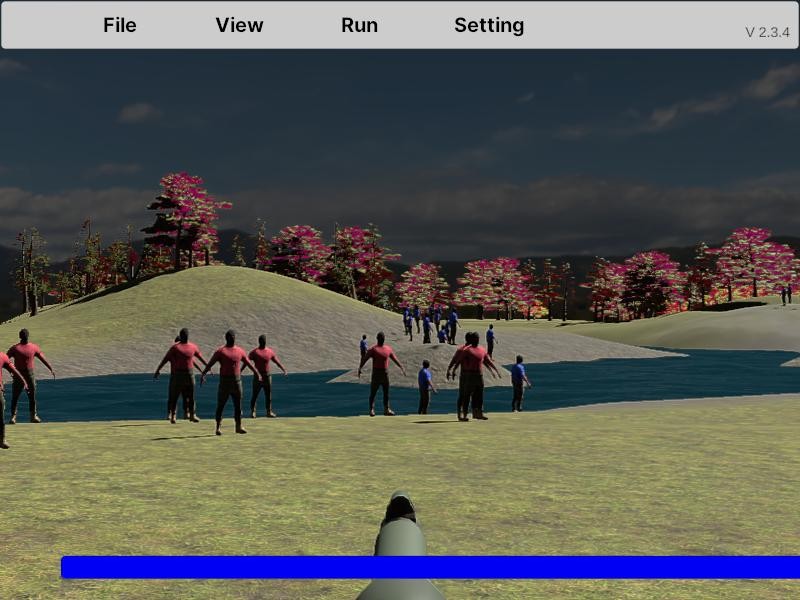Human: (201, 331, 263, 435), (154, 327, 210, 423), (3, 327, 55, 425), (238, 333, 287, 419), (452, 333, 498, 423), (358, 332, 405, 416), (0, 336, 29, 450), (418, 359, 437, 420), (511, 354, 529, 417)
